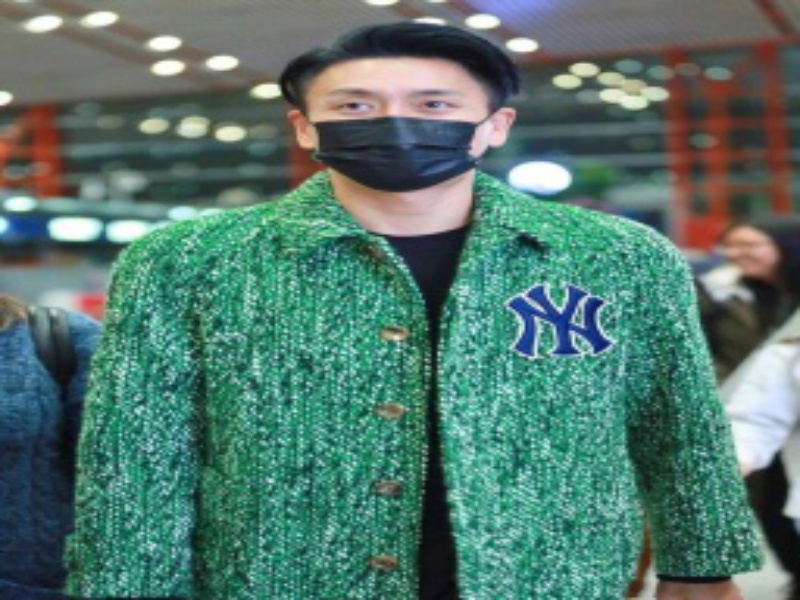ManaoArotava: (276, 23, 544, 196)
